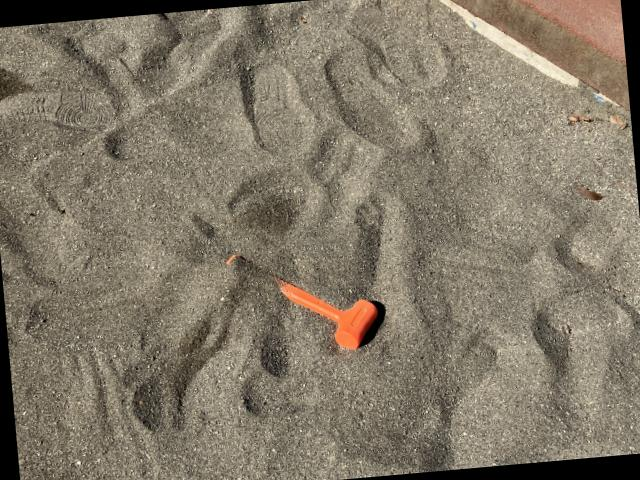hammer: (224, 239, 380, 360)
